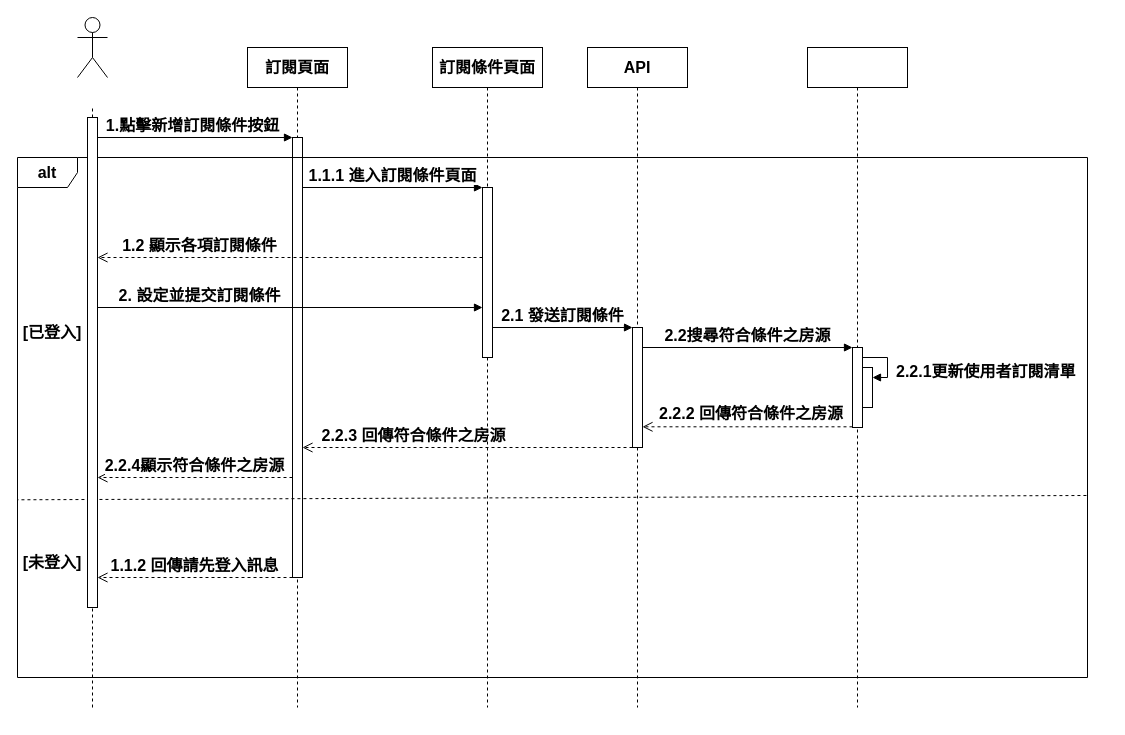
Image size: 1125x735. Some labels were removed from this diagram. Each missing label, with the centre of its shape:
使用者: point (92, 47)
資料庫: point (857, 377)
